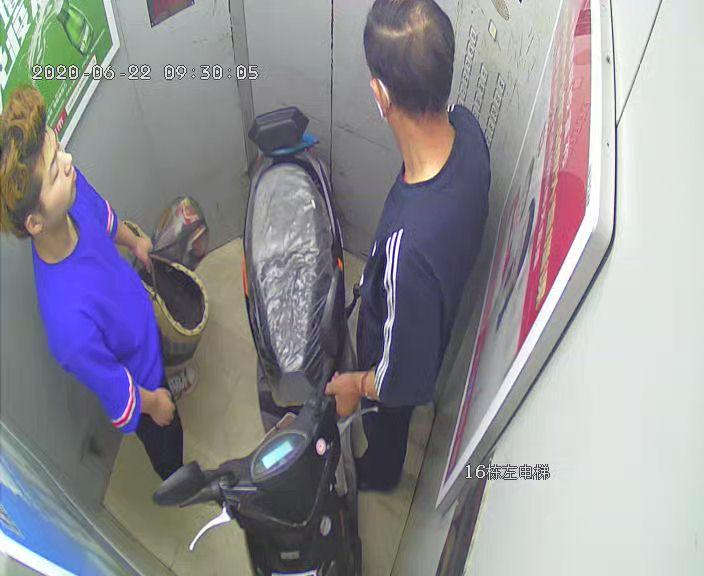Electric-bicycle: (156, 100, 378, 575)
